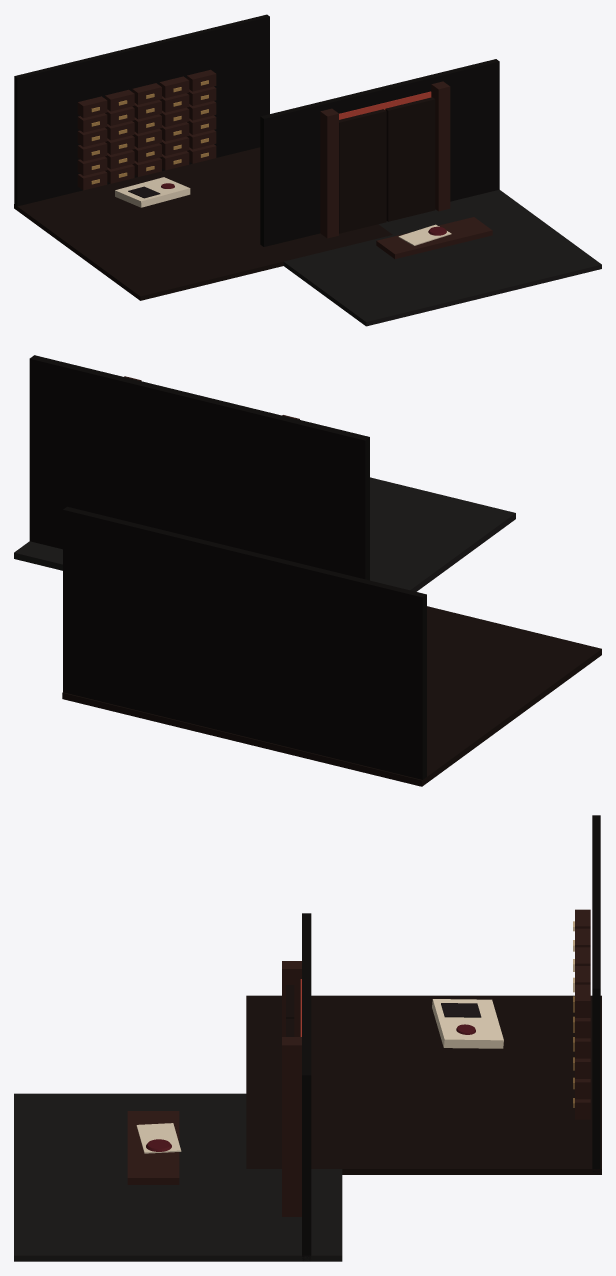
The model's file is estate-detail-high.glb.
3 renders of one model, top to bottom at view 1: azimuth 30°, elevation 25°; view 2: azimuth 150°, elevation 25°; view 3: azimuth 270°, elevation 25°, orthographic. The views are drawn at different scales.
Parts seen in each view (by area): view 1: ArchiveFloor, ArchiveBackWall, DecisionFloor, DecisionWall, DecisionDoorRightPanel, DecisionDoorLeftPanel, DecisionPillarLeft, DecisionPillarRight, DecisionConsole, ArchiveDrawerFeature, DecisionDawn, ArchiveDrawer0-5 (+10 smaller); view 2: ArchiveBackWall, DecisionWall, ArchiveFloor, DecisionFloor; view 3: ArchiveFloor, DecisionFloor, DecisionPillarRight, DecisionWall, ArchiveBackWall, DecisionConsole, ArchiveDrawerFeature, DecisionPillarLeft, DecisionEnvelope.
Part boxes in pixels (bbox=[...]): ArchiveFloor: bbox=[14, 147, 392, 300]; ArchiveBackWall: bbox=[14, 14, 269, 209]; DecisionFloor: bbox=[283, 189, 601, 326]; DecisionWall: bbox=[260, 59, 499, 246]; DecisionDoorRightPanel: bbox=[385, 97, 435, 221]; DecisionDoorLeftPanel: bbox=[339, 109, 386, 233]; DecisionPillarLeft: bbox=[320, 108, 338, 238]; DecisionPillarRight: bbox=[431, 81, 450, 211]; DecisionConsole: bbox=[376, 217, 492, 258]; ArchiveDrawerFeature: bbox=[115, 177, 190, 207]; DecisionDawn: bbox=[339, 91, 431, 119]; ArchiveDrawer0-5: bbox=[77, 96, 107, 118]; ArchiveBackWall: bbox=[63, 506, 426, 779]; DecisionWall: bbox=[29, 355, 369, 580]; ArchiveFloor: bbox=[62, 606, 601, 786]; DecisionFloor: bbox=[14, 477, 515, 591]; ArchiveFloor: bbox=[246, 995, 601, 1174]; DecisionFloor: bbox=[14, 1093, 342, 1261]; DecisionPillarRight: bbox=[282, 1037, 301, 1216]; DecisionWall: bbox=[302, 913, 311, 1261]; ArchiveBackWall: bbox=[592, 815, 600, 1174]; DecisionConsole: bbox=[127, 1111, 179, 1184]; ArchiveDrawerFeature: bbox=[432, 999, 503, 1048]; DecisionPillarLeft: bbox=[282, 961, 301, 1036]; DecisionEnvelope: bbox=[136, 1123, 181, 1153].
Bounding box in the file's own units: 22.5 × 7.55 × 21.5.
